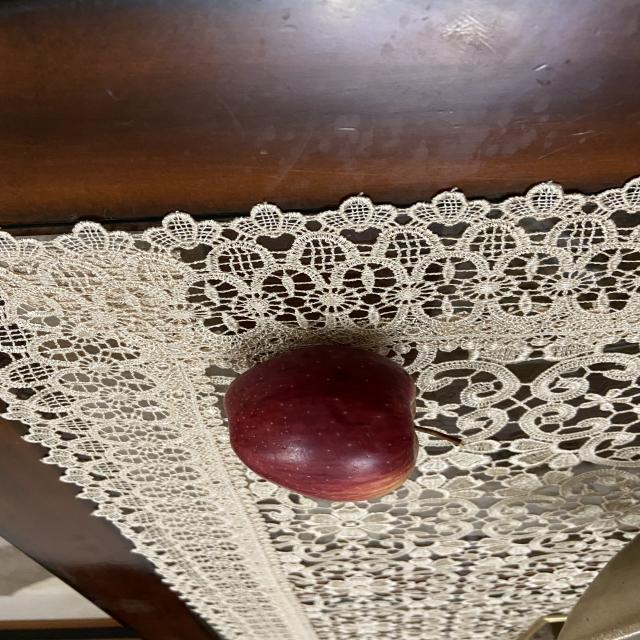apple: (221, 340, 464, 510)
